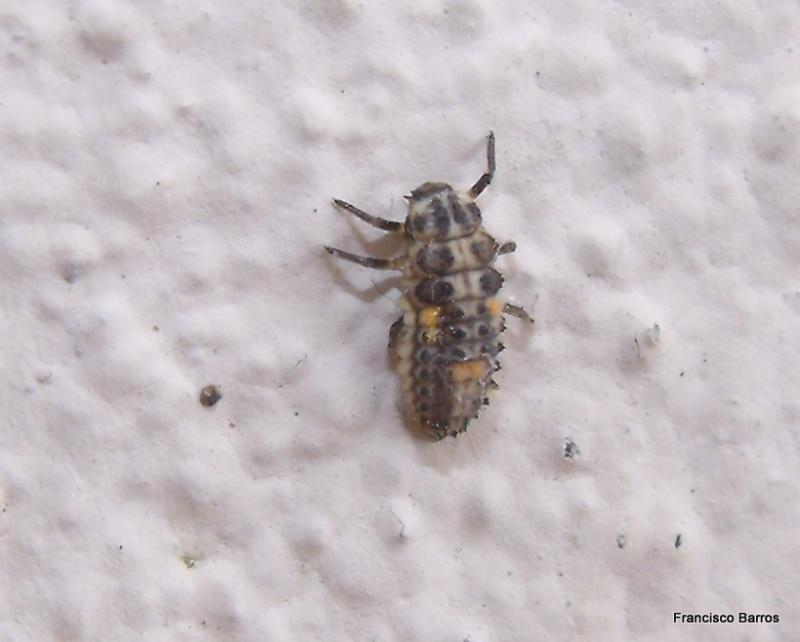ladybug: (321, 128, 539, 448)
